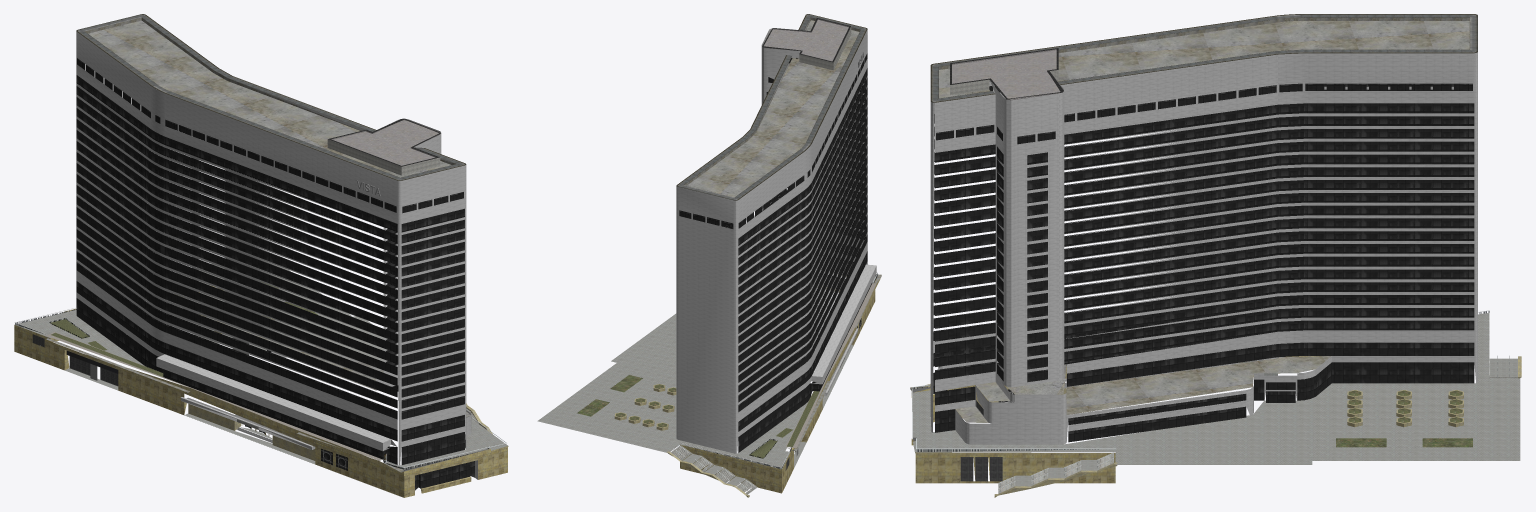
Rendered from marriot.glb.
The picture shows the model from 3 angles, left to right: view 1: azimuth 30°, elevation 25°; view 2: azimuth 150°, elevation 25°; view 3: azimuth 270°, elevation 25°; orthographic projection. The views are drawn at different scales.
Visible parts, largest first — view 1: Object_9, Object_11, Object_5, Object_14, Object_7, Object_4, Object_15, Object_23, Object_16, Object_19, Object_21, Object_2 (+1 smaller); view 2: Object_11, Object_9, Object_7, Object_5, Object_14, Object_4, Object_15, Object_21, Object_16, Object_23, Object_2; view 3: Object_9, Object_11, Object_7, Object_5, Object_4, Object_14, Object_15, Object_23, Object_21, Object_16, Object_8, Object_22.
Part boxes in pixels (bbox=[...]): Object_9: bbox=[76, 58, 474, 490]; Object_11: bbox=[76, 31, 477, 479]; Object_5: bbox=[46, 17, 470, 472]; Object_14: bbox=[14, 325, 507, 497]; Object_7: bbox=[15, 259, 507, 469]; Object_4: bbox=[76, 14, 466, 180]; Object_15: bbox=[331, 119, 438, 165]; Object_23: bbox=[63, 285, 508, 460]; Object_16: bbox=[327, 139, 478, 423]; Object_19: bbox=[90, 180, 489, 471]; Object_21: bbox=[50, 281, 317, 376]; Object_2: bbox=[46, 332, 382, 460]; Object_11: bbox=[676, 20, 876, 453]; Object_9: bbox=[679, 53, 872, 452]; Object_7: bbox=[537, 276, 876, 485]; Object_5: bbox=[684, 17, 881, 451]; Object_14: bbox=[680, 274, 880, 493]; Object_4: bbox=[676, 14, 867, 200]; Object_15: bbox=[764, 19, 848, 61]; Object_21: bbox=[577, 375, 819, 458]; Object_16: bbox=[671, 26, 851, 494]; Object_23: bbox=[614, 279, 876, 497]; Object_2: bbox=[785, 283, 876, 447]; Object_9: bbox=[933, 83, 1474, 442]; Object_11: bbox=[930, 52, 1477, 444]; Object_7: bbox=[912, 313, 1520, 486]; Object_5: bbox=[910, 17, 1469, 422]; Object_4: bbox=[930, 14, 1477, 102]; Object_14: bbox=[911, 356, 1321, 483]; Object_15: bbox=[952, 49, 1060, 100]; Object_23: bbox=[911, 356, 1521, 497]; Object_21: bbox=[1336, 390, 1472, 447]; Object_16: bbox=[950, 70, 1517, 493]; Object_8: bbox=[960, 400, 1002, 481]; Object_22: bbox=[912, 355, 1509, 490].
Size of the model in its own units: 264 by 297 by 446.
Materials: 20 (20 with a texture image).
